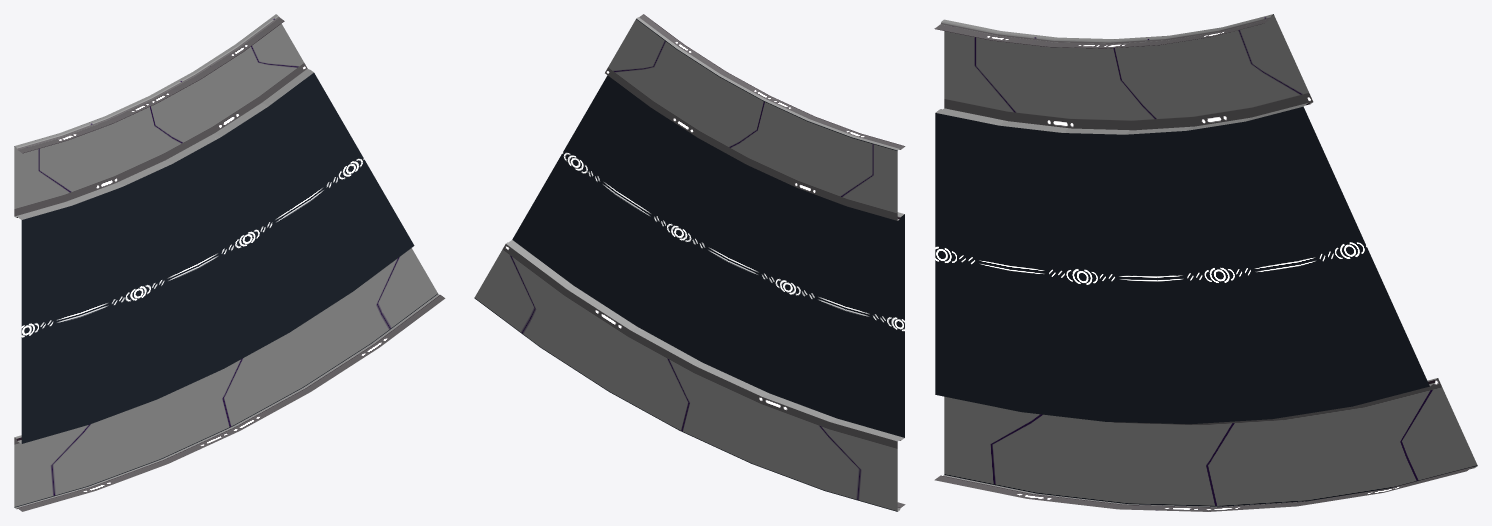
Rendered from SM_S_Road45.fbx.
3 renders of one model, left to right at view 1: azimuth 30°, elevation 25°; view 2: azimuth 150°, elevation 25°; view 3: azimuth 330°, elevation 25°, orthographic. The views are drawn at different scales.
Parts seen in each view (by area): view 1: SM_S_Road45; view 2: SM_S_Road45; view 3: SM_S_Road45.
Part boxes in pixels (x1=…): SM_S_Road45: x1=14, y1=14, x2=445, y2=511; SM_S_Road45: x1=474, y1=14, x2=905, y2=511; SM_S_Road45: x1=934, y1=14, x2=1477, y2=511.
Bounding box in the file's own units: 3621 × 119 × 3510.
